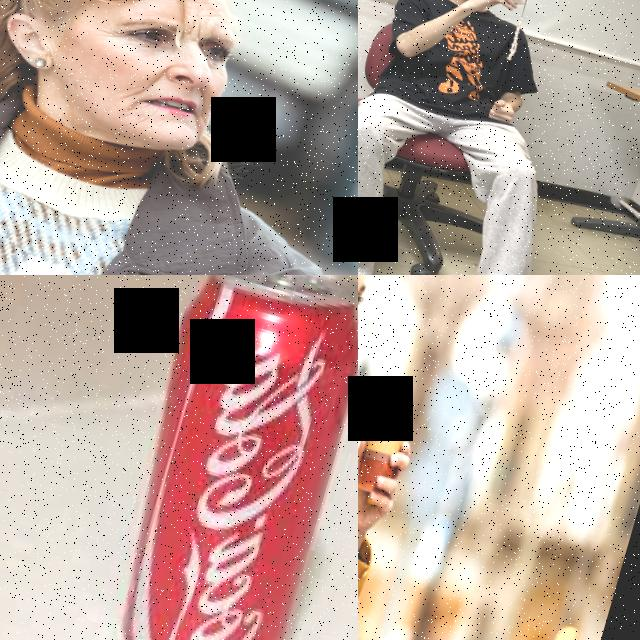can: (79, 275, 358, 640)
cup: (358, 408, 414, 501)
